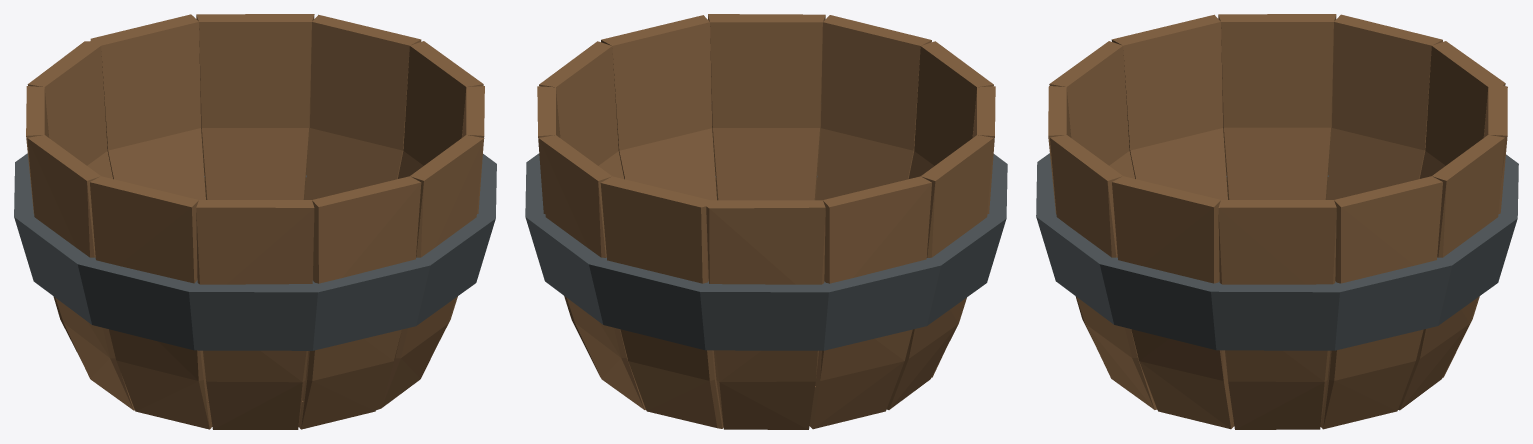
The model's file is Bucket_01.fbx.
3 renders of one model, left to right at view 1: azimuth 30°, elevation 25°; view 2: azimuth 150°, elevation 25°; view 3: azimuth 270°, elevation 25°, orthographic.
Visible parts, largest first — view 1: Bucket_01; view 2: Bucket_01; view 3: Bucket_01.
Part boxes in pixels (x1,y1,x2,y2): Bucket_01: [14, 14, 496, 429]; Bucket_01: [525, 14, 1007, 429]; Bucket_01: [1036, 14, 1518, 429].
Bounding box in the file's own units: 0.556 × 0.3173 × 0.556.
